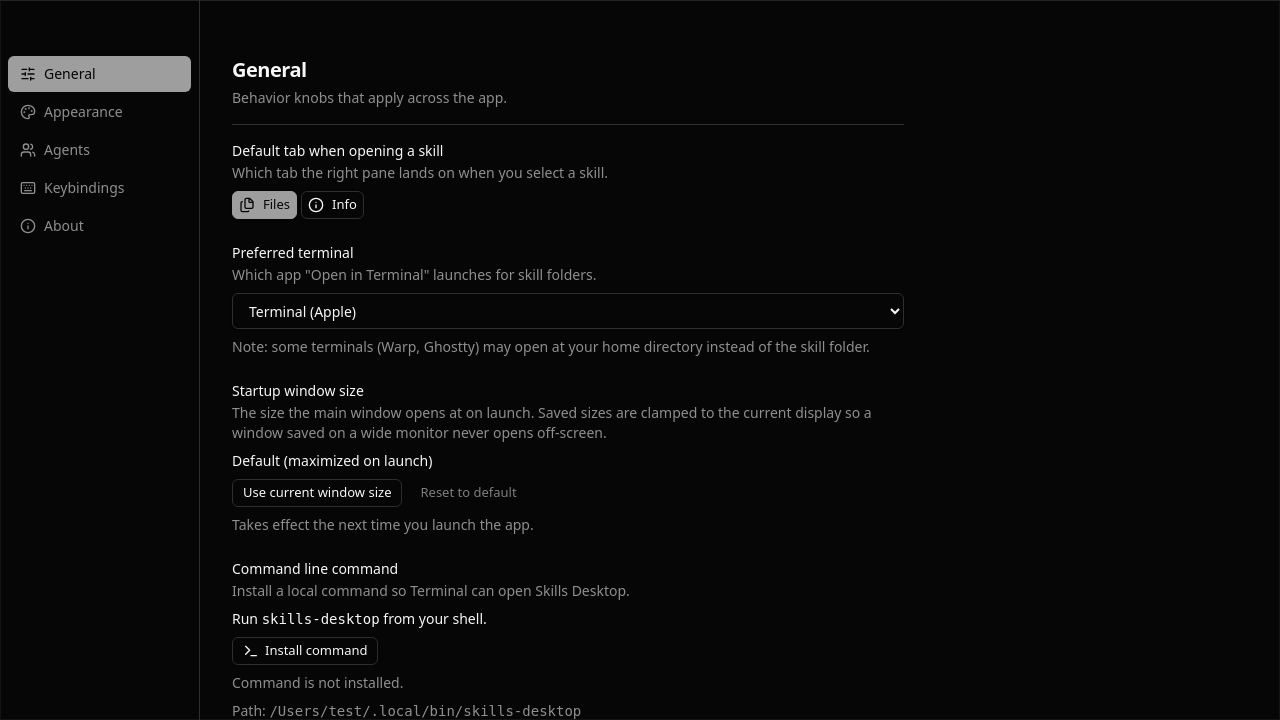
Scenario: Settings window navigation › shows the Keybindings pane when its nav item is selected
The image size is (1280, 720).
Click the button "Keybindings": (100, 188) top-left (8, 170), bottom-right (191, 206)
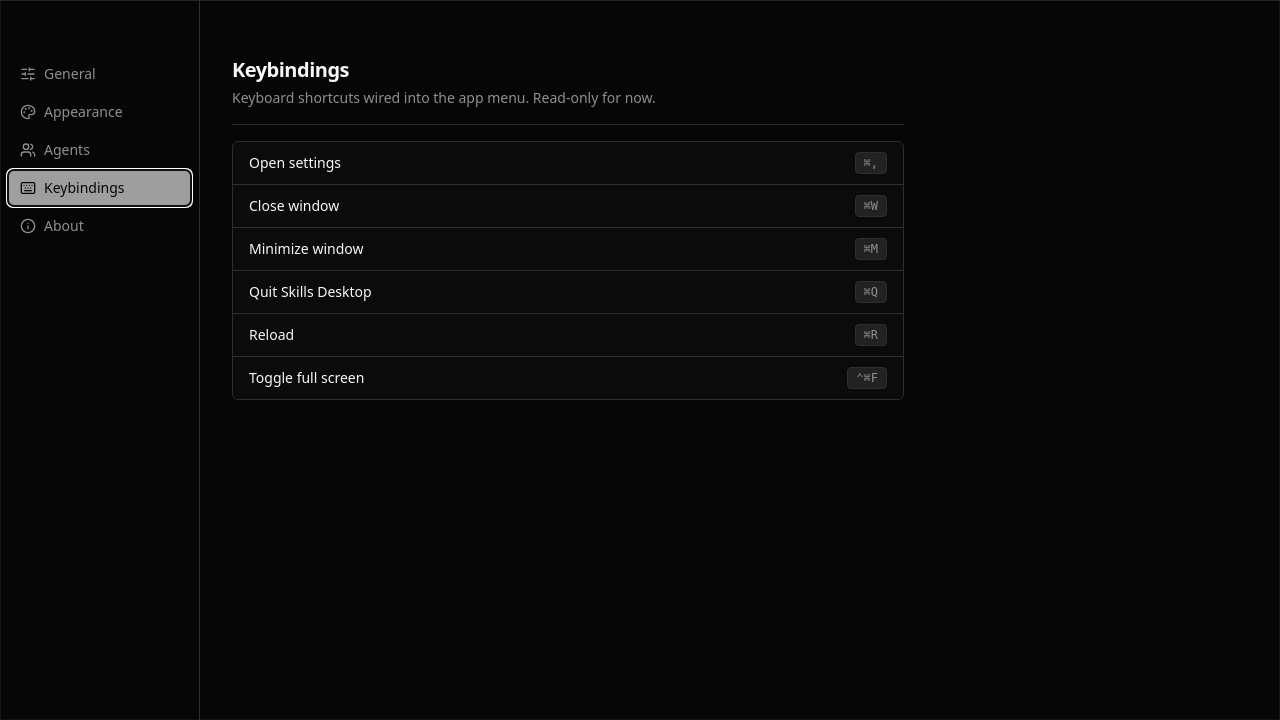
Expected: the heading "Keybindings" is shown, top-left (232, 56), bottom-right (349, 83)
